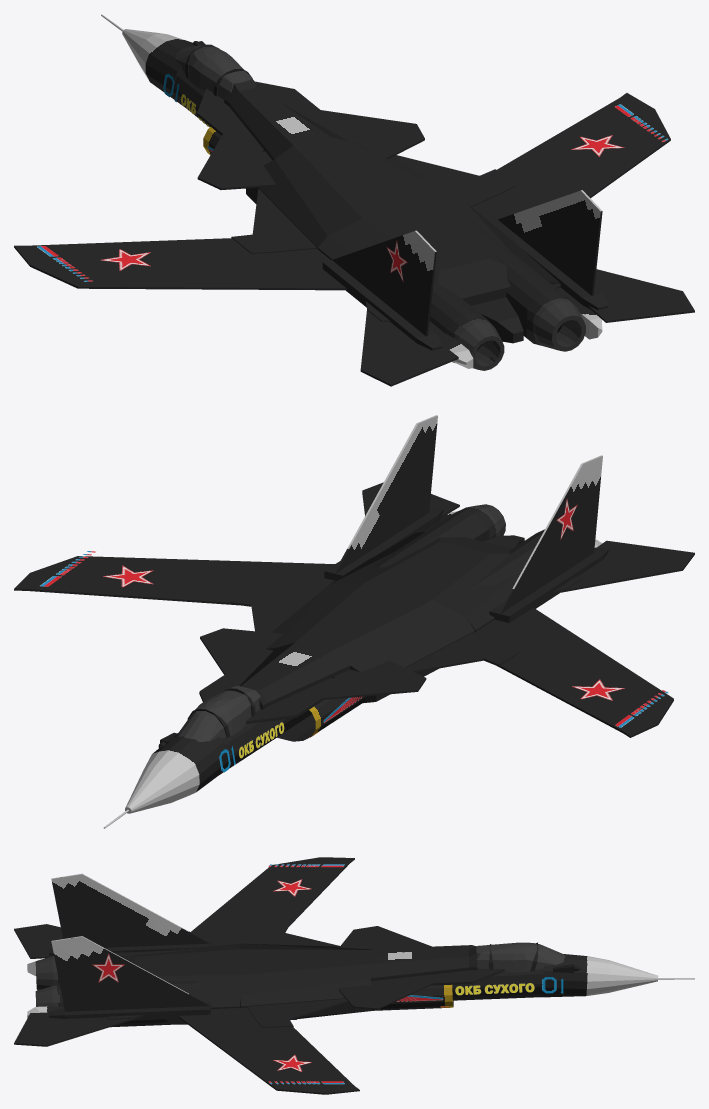
3 views of the same model, one above another, from view 1: azimuth 30°, elevation 25°; view 2: azimuth 150°, elevation 25°; view 3: azimuth 270°, elevation 25° (orthographic). The views are drawn at different scales.
Parts seen in each view (by area): view 1: cuboid.002, cuboid.006, cuboid.008, cuboid.014, cuboid.013, cylinder.003, cuboid.011, cuboid.012, cylinder.004, cuboid.003, cuboid.004, cuboid.005 (+6 smaller); view 2: cuboid.002, cuboid.008, cuboid.006, cuboid.014, cuboid.013, cylinder, cuboid.011, sphere.002, cylinder.003, cuboid.004, cuboid.003, cuboid.005 (+7 smaller); view 3: cuboid.002, cuboid.013, cuboid.008, cuboid.014, cuboid.006, cylinder, cuboid.012, sphere.002, cylinder.005, cuboid.004, cuboid.007, cuboid.003 (+8 smaller).
Part boxes in pixels (x1=…): cuboid.002: x1=224, y1=79, x2=602, y2=368; cuboid.006: x1=14, y1=238, x2=346, y2=290; cuboid.008: x1=472, y1=93, x2=670, y2=221; cuboid.014: x1=322, y1=230, x2=442, y2=350; cuboid.013: x1=490, y1=190, x2=608, y2=310; cylinder.003: x1=464, y1=224, x2=585, y2=351; cuboid.011: x1=360, y1=309, x2=458, y2=386; cuboid.012: x1=588, y1=269, x2=694, y2=322; cylinder.004: x1=429, y1=282, x2=504, y2=370; cuboid.003: x1=197, y1=127, x2=276, y2=189; cuboid.004: x1=309, y1=109, x2=424, y2=158; cuboid.005: x1=231, y1=188, x2=316, y2=253; cuboid.002: x1=236, y1=511, x2=602, y2=709; cuboid.008: x1=14, y1=556, x2=334, y2=605; cuboid.006: x1=475, y1=607, x2=673, y2=737; cuboid.014: x1=489, y1=455, x2=608, y2=623; cuboid.013: x1=324, y1=415, x2=443, y2=580; cylinder: x1=125, y1=733, x2=227, y2=813; cuboid.011: x1=554, y1=540, x2=694, y2=593; sphere.002: x1=178, y1=685, x2=260, y2=741; cylinder.003: x1=371, y1=504, x2=505, y2=567; cuboid.004: x1=200, y1=628, x2=283, y2=679; cuboid.003: x1=322, y1=660, x2=426, y2=699; cuboid.005: x1=406, y1=632, x2=519, y2=672; cuboid.002: x1=27, y1=943, x2=477, y2=1024; cuboid.013: x1=49, y1=936, x2=210, y2=1019; cuboid.008: x1=178, y1=1007, x2=359, y2=1094; cuboid.014: x1=49, y1=873, x2=210, y2=955; cuboid.006: x1=190, y1=857, x2=354, y2=945; cylinder: x1=542, y1=954, x2=658, y2=997; cuboid.012: x1=14, y1=1012, x2=140, y2=1046; sphere.002: x1=476, y1=942, x2=565, y2=972; cylinder.005: x1=452, y1=968, x2=543, y2=1000; cuboid.004: x1=338, y1=983, x2=432, y2=1009; cuboid.007: x1=247, y1=999, x2=347, y2=1027; cuboid.003: x1=339, y1=926, x2=431, y2=949.
Size of the model in its own units: 4.26 by 0.8925 by 5.19.
13 materials, 13 textured.
